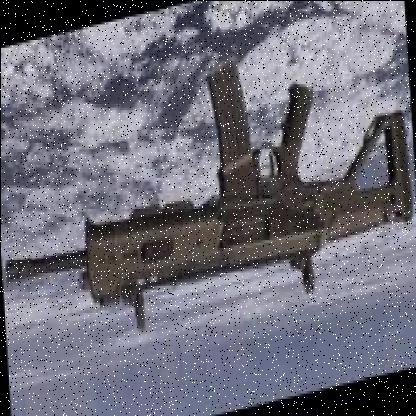rifle: (0, 20, 416, 354)
